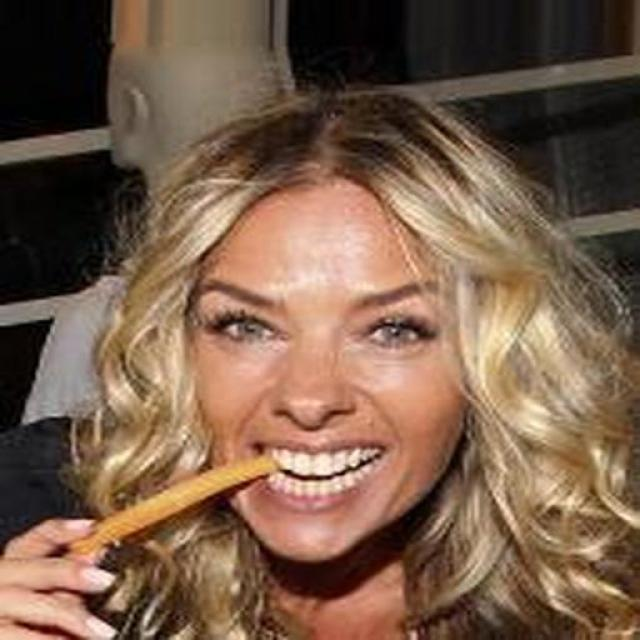bareface: (199, 172, 452, 550)
